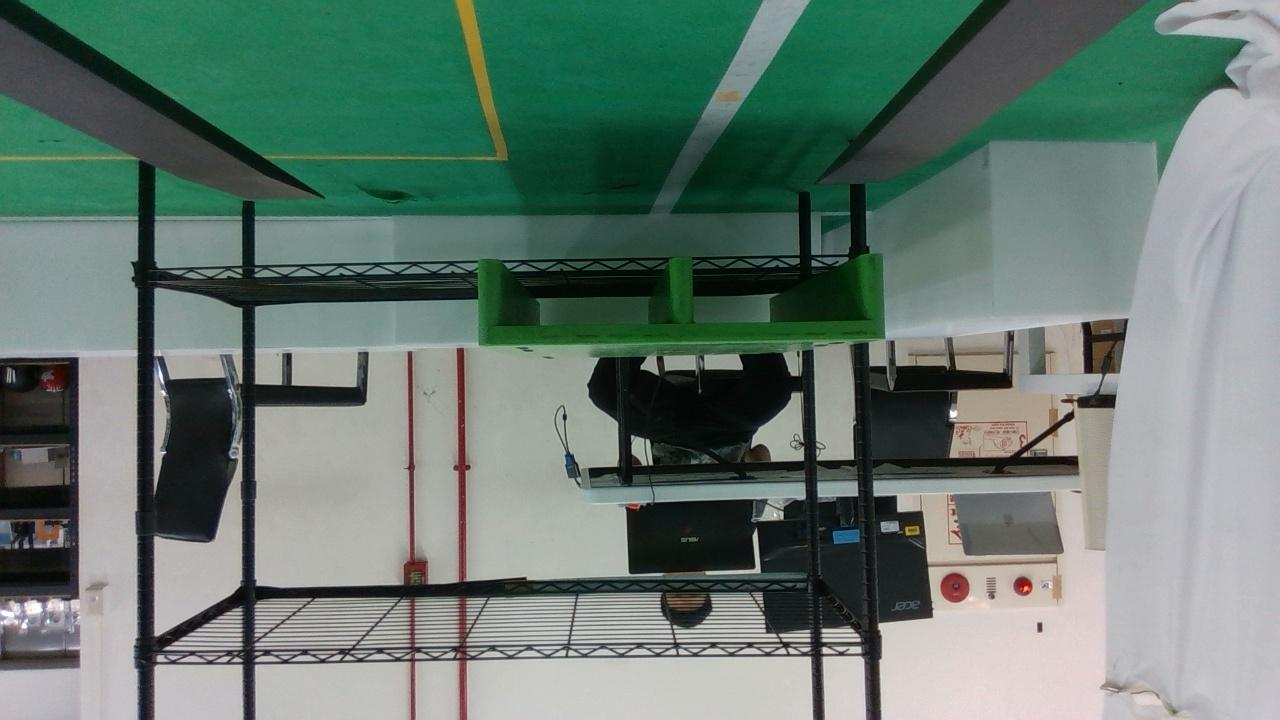Pallet: (477, 256, 884, 348)
